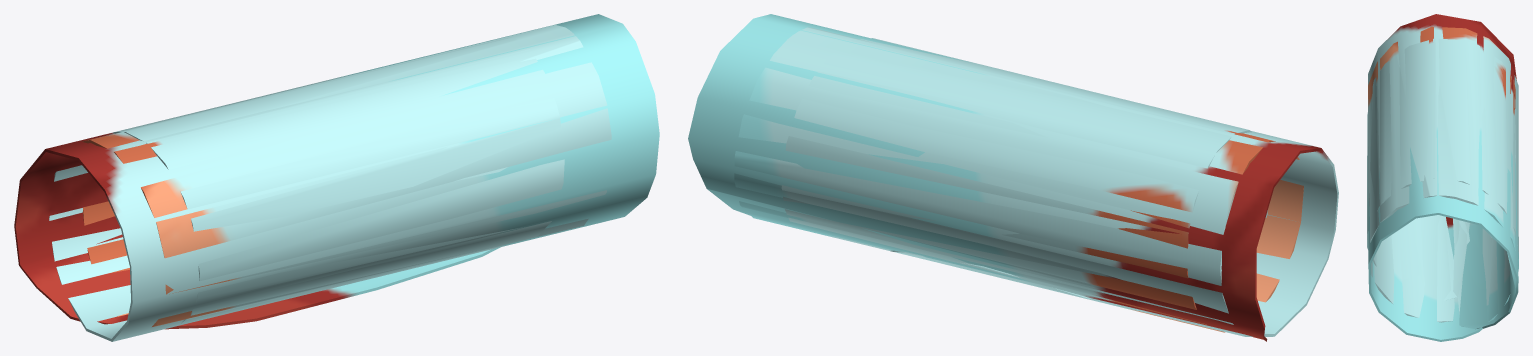
Rendered from Level 192 unroll windmill wings.fbx.
The picture shows the model from 3 angles, left to right: view 1: azimuth 30°, elevation 25°; view 2: azimuth 150°, elevation 25°; view 3: azimuth 270°, elevation 25°; orthographic projection. The views are drawn at different scales.
Parts seen in each view (by area): view 1: Blend; view 2: Blend; view 3: Blend.
Boxes of the visible parts, x1,y1,x2,y2 form: Blend: (14,14,659,341); Blend: (688,14,1338,341); Blend: (1367,14,1518,341).
Size of what is drawn, in the model's own units: 217 by 67.11 by 67.02.
